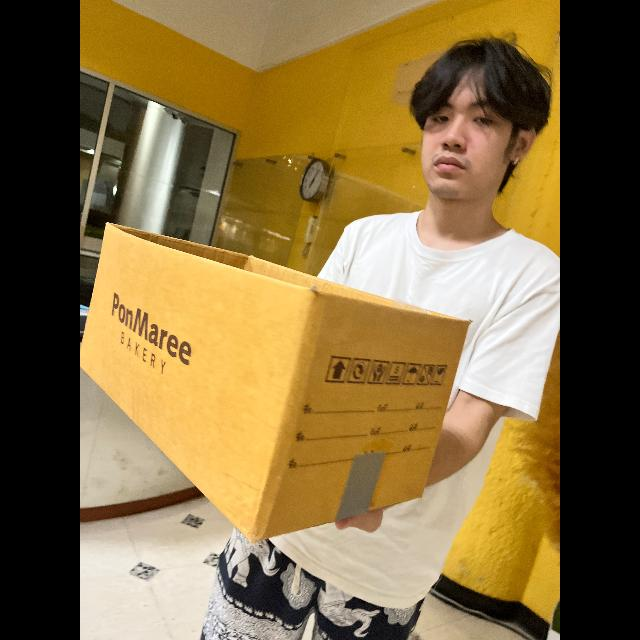cardboard_box: (80, 223, 471, 547)
